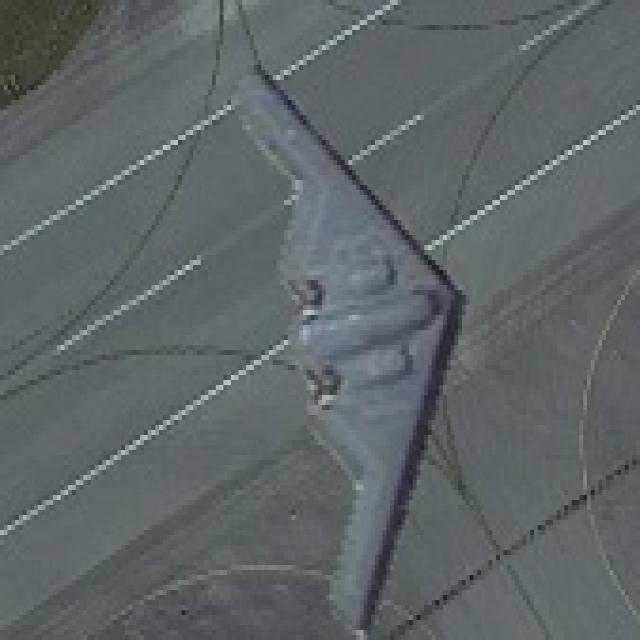B-2_TopDown: (216, 60, 469, 635)
